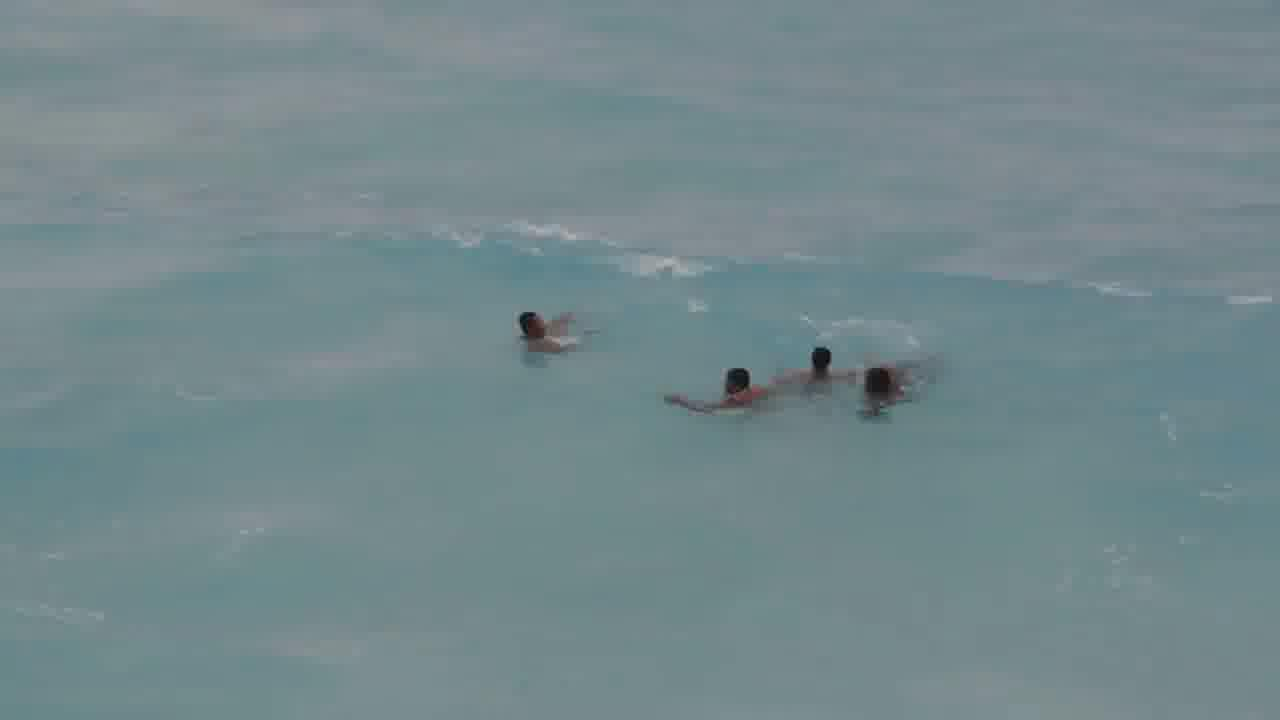swimmer: (666, 360, 781, 413), (504, 295, 593, 359), (852, 360, 915, 422), (770, 343, 860, 384)
